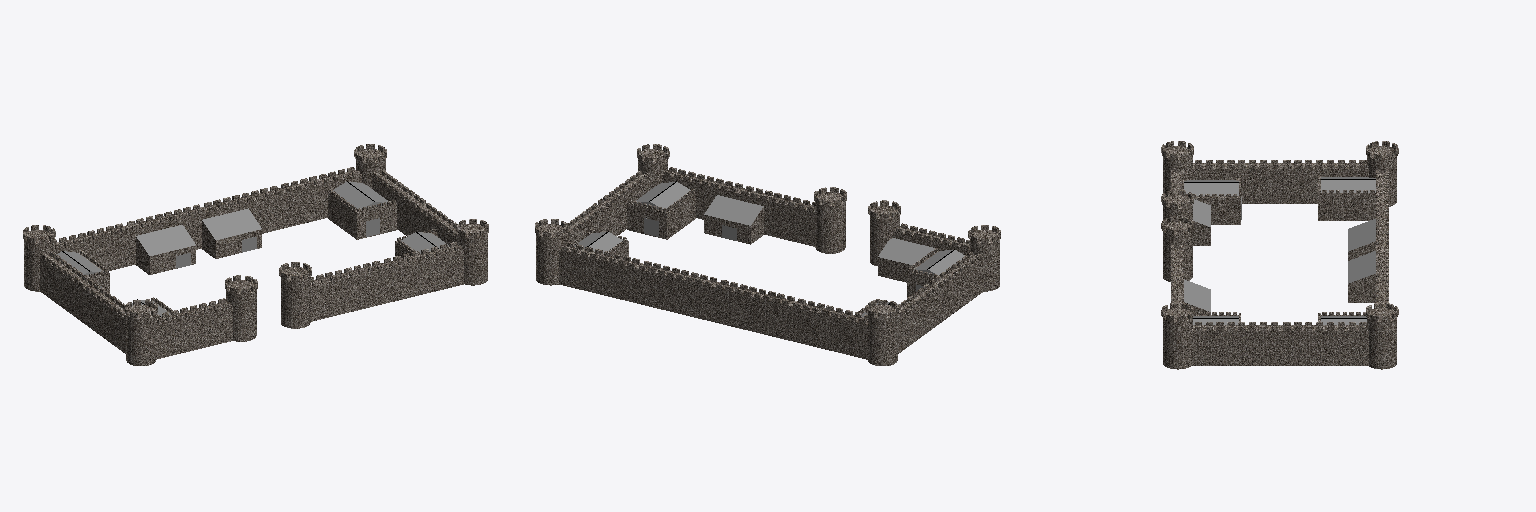
3 renders of one model, left to right at view 1: azimuth 30°, elevation 25°; view 2: azimuth 150°, elevation 25°; view 3: azimuth 270°, elevation 25°, orthographic.
Parts seen in each view (by area): view 1: castle; view 2: castle; view 3: castle.
Boxes of the visible parts, x1,y1,x2,y2 form: castle: [23, 144, 488, 365]; castle: [535, 144, 1000, 365]; castle: [1161, 141, 1398, 369].
Size of the model in its own units: 4867 by 704 by 2778.
4 materials, 1 textured.